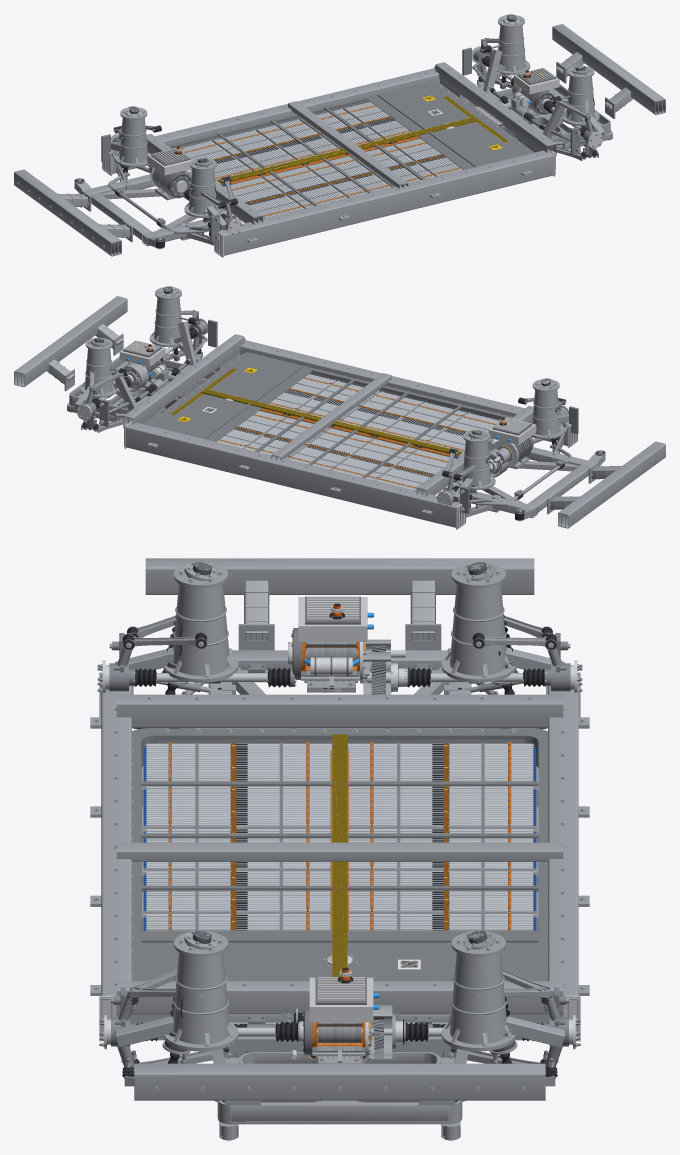
File: luxeed-rx-xray.glb
The picture shows the model from 3 angles, top to bottom: view 1: azimuth 30°, elevation 25°; view 2: azimuth 150°, elevation 25°; view 3: azimuth 270°, elevation 25°; orthographic projection. The views are drawn at different scales.
Parts seen in each view (by area): view 1: XR_Frame_Floor, XR_Battery, XR_Battery_Lid, XR_Frame_CrashF, XR_Frame_CrashR, XR_Frame_SubR, XR_Frame_SubF, XR_Battery_Busbars, XR_Susp_RL_Tower, XR_Susp_RR_Tower, XR_Susp_FR_Tower, XR_Susp_FL_Tower (+12 smaller); view 2: XR_Frame_Floor, XR_Battery, XR_Battery_Lid, XR_Frame_CrashF, XR_Frame_CrashR, XR_Frame_SubR, XR_Frame_SubF, XR_Battery_Busbars, XR_Susp_RR_Tower, XR_Susp_RL_Tower, XR_Susp_FL_Tower, XR_Susp_FR_Tower (+13 smaller); view 3: XR_Battery, XR_Frame_Floor, XR_Battery_Lid, XR_Frame_CrashF, XR_Frame_CrashR, XR_Frame_SubF, XR_Susp_FL_Tower, XR_Susp_FR_Tower, XR_Susp_RL_Tower, XR_Susp_RR_Tower, XR_Frame_SubR, XR_Drive_R_Inverter (+23 smaller).
Boxes of the visible parts, left/top/right/bottom form: XR_Frame_Floor: left=102, top=62, right=556, bottom=257; XR_Battery: left=181, top=102, right=463, bottom=217; XR_Battery_Lid: left=167, top=80, right=534, bottom=218; XR_Frame_CrashF: left=552, top=24, right=665, bottom=118; XR_Frame_CrashR: left=14, top=169, right=132, bottom=256; XR_Frame_SubR: left=74, top=174, right=240, bottom=249; XR_Frame_SubF: left=463, top=49, right=612, bottom=149; XR_Battery_Busbars: left=183, top=105, right=460, bottom=215; XR_Susp_RL_Tower: left=111, top=107, right=150, bottom=167; XR_Susp_RR_Tower: left=184, top=158, right=226, bottom=230; XR_Susp_FR_Tower: left=562, top=65, right=604, bottom=136; XR_Susp_FL_Tower: left=488, top=15, right=530, bottom=74; XR_Frame_Floor: left=123, top=334, right=577, bottom=529; XR_Battery: left=216, top=374, right=499, bottom=490; XR_Battery_Lid: left=145, top=352, right=512, bottom=490; XR_Frame_CrashF: left=14, top=296, right=127, bottom=391; XR_Frame_CrashR: left=547, top=441, right=665, bottom=528; XR_Frame_SubR: left=439, top=447, right=605, bottom=521; XR_Frame_SubF: left=67, top=321, right=216, bottom=421; XR_Battery_Busbars: left=219, top=377, right=496, bottom=488; XR_Susp_RR_Tower: left=531, top=379, right=568, bottom=439; XR_Susp_RL_Tower: left=453, top=430, right=495, bottom=502; XR_Susp_FL_Tower: left=75, top=337, right=117, bottom=408; XR_Susp_FR_Tower: left=149, top=287, right=191, bottom=346; XR_Battery: left=142, top=742, right=537, bottom=930; XR_Frame_Floor: left=90, top=672, right=589, bottom=1041; XR_Battery_Lid: left=132, top=728, right=547, bottom=981; XR_Frame_CrashF: left=134, top=1063, right=545, bottom=1105; XR_Frame_CrashR: left=145, top=558, right=534, bottom=650; XR_Frame_SubF: left=211, top=1014, right=468, bottom=1140; XR_Susp_FL_Tower: left=441, top=931, right=564, bottom=1051; XR_Susp_FR_Tower: left=115, top=931, right=238, bottom=1051; XR_Susp_RL_Tower: left=441, top=562, right=564, bottom=682; XR_Susp_RR_Tower: left=115, top=562, right=238, bottom=682; XR_Frame_SubR: left=168, top=645, right=511, bottom=728; XR_Drive_R_Inverter: left=298, top=596, right=373, bottom=641.
Bounding box in the file's own units: 4.63 × 0.688 × 1.8.
Materials: 29 (12 with a texture image).
